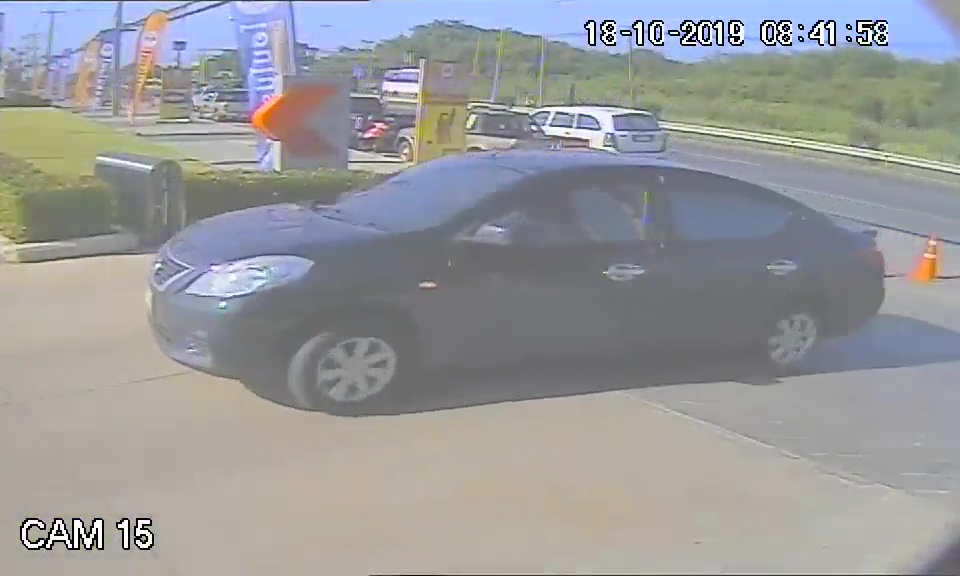sedan: (143, 146, 888, 415)
